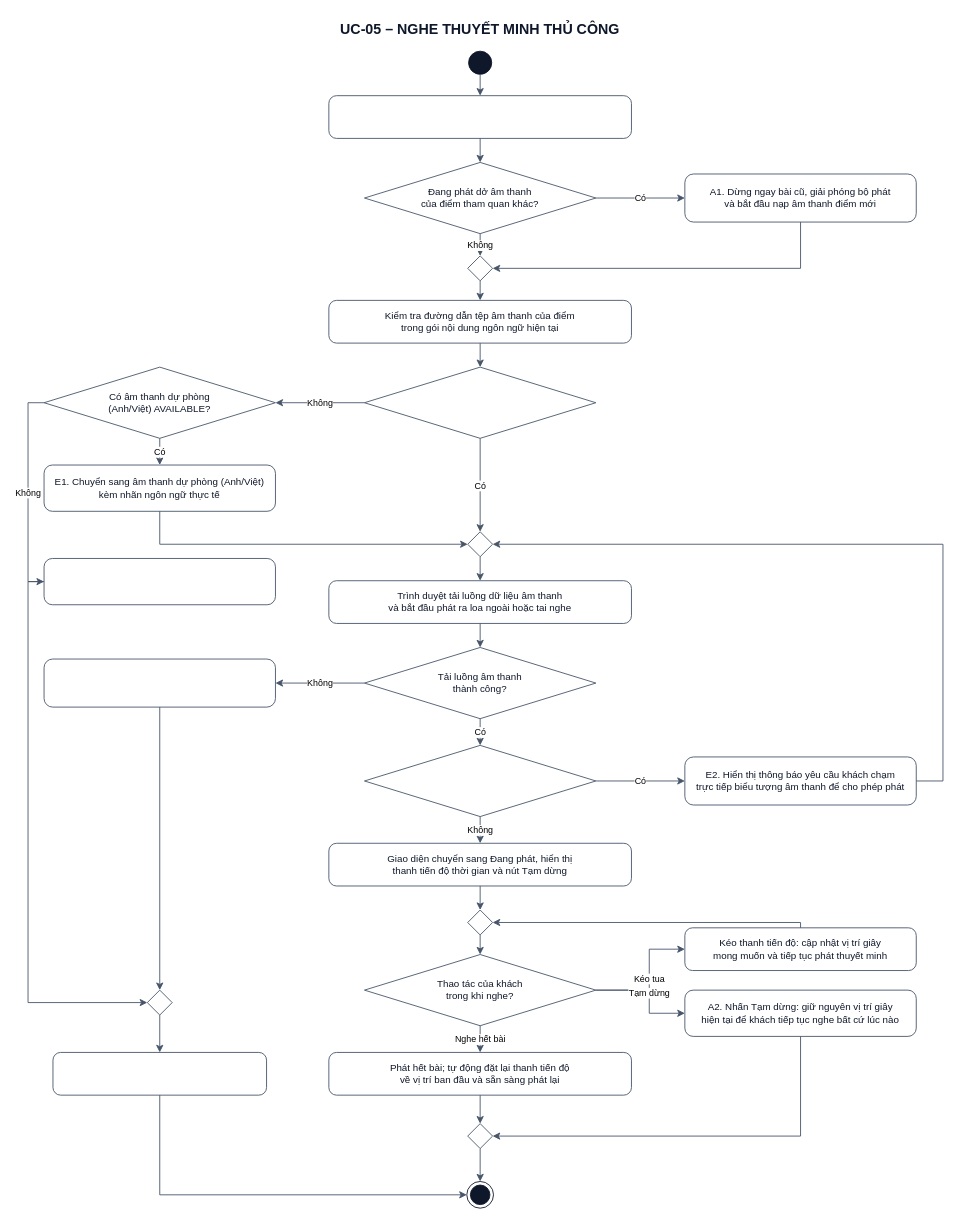
This 966x1224 diagram has some shape labels left out. Each missing label, with the centre of its shape:
Có âm thanh theo ngôn ngữ đang chọn?: (x=480, y=402)
E1. Báo âm thanh chưa sẵn sàng; hiển thị nội dung văn bản để khách tự đọc: (x=159, y=581)
E3. Báo lỗi tải âm thanh, cho phép thử lại; hiển thị toàn bộ bài viết dạng chữ: (x=159, y=682)
Khách mở thông tin chi tiết điểm tham quan và nhấn nút Phát thuyết minh: (x=479, y=116)
Không phát âm thanh (hiển thị văn bản): (x=159, y=1073)
Trình duyệt chặn tự động phát âm thanh?: (x=480, y=780)
